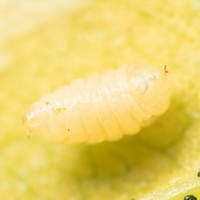insect: (24, 66, 172, 142)
